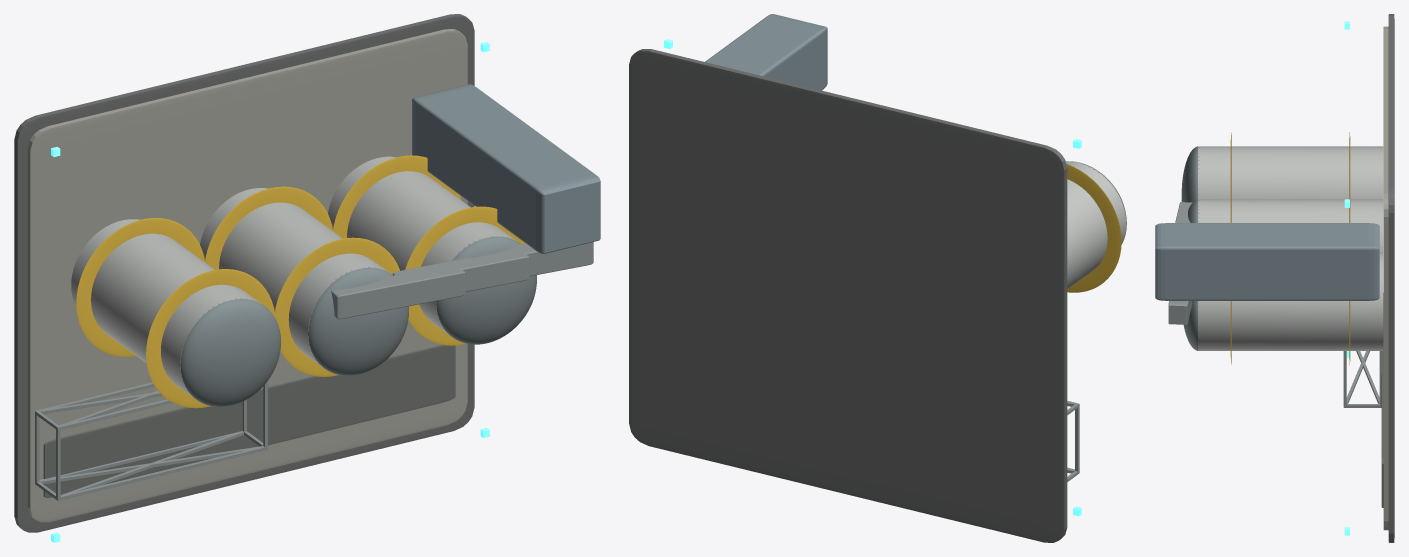
Rendered from b-10-resource-silo-lod1.glb.
The picture shows the model from 3 angles, left to right: view 1: azimuth 30°, elevation 25°; view 2: azimuth 150°, elevation 25°; view 3: azimuth 270°, elevation 25°; orthographic projection. The views are drawn at different scales.
Visible parts, largest first — view 1: foundation_inner_pad, silo_truck_lane_road, main_bucket_elevator, foundation, primary_silo_0_vessel, primary_silo_1_vessel, primary_silo_2_vessel, silo_dome_0, silo_dome_1, silo_dome_2, top_conveyor_0, primary_silo_0_ring_high (+11 smaller); view 2: foundation, main_bucket_elevator, primary_silo_0_vessel, primary_silo_0_ring_high; view 3: main_bucket_elevator, primary_silo_0_vessel, primary_silo_2_vessel, primary_silo_1_vessel, foundation, foundation_inner_pad, silo_dome_0, top_conveyor_2, silo_truck_lane_road, silo_dome_2.
Boxes of the visible parts, bbox=[...] form: foundation_inner_pad: bbox=[27, 29, 467, 522]; silo_truck_lane_road: bbox=[43, 345, 455, 497]; main_bucket_elevator: bbox=[412, 84, 600, 253]; foundation: bbox=[14, 14, 474, 532]; primary_silo_0_vessel: bbox=[71, 219, 275, 403]; primary_silo_1_vessel: bbox=[200, 188, 391, 373]; primary_silo_2_vessel: bbox=[328, 156, 520, 343]; silo_dome_0: bbox=[180, 298, 281, 406]; silo_dome_1: bbox=[308, 267, 408, 375]; silo_dome_2: bbox=[436, 236, 536, 344]; top_conveyor_0: bbox=[331, 264, 465, 319]; primary_silo_0_ring_high: bbox=[146, 269, 274, 408]; foundation: bbox=[629, 49, 1067, 542]; main_bucket_elevator: bbox=[705, 14, 827, 90]; primary_silo_0_vessel: bbox=[1065, 161, 1126, 289]; primary_silo_0_ring_high: bbox=[1066, 164, 1121, 292]; main_bucket_elevator: bbox=[1155, 223, 1379, 300]; primary_silo_0_vessel: bbox=[1198, 146, 1383, 199]; primary_silo_2_vessel: bbox=[1198, 252, 1383, 350]; primary_silo_1_vessel: bbox=[1198, 199, 1383, 252]; foundation: bbox=[1388, 14, 1394, 542]; foundation_inner_pad: bbox=[1383, 26, 1388, 530]; silo_dome_0: bbox=[1181, 146, 1199, 202]; top_conveyor_2: bbox=[1168, 301, 1192, 324]; silo_truck_lane_road: bbox=[1381, 293, 1383, 507]; silo_dome_2: bbox=[1183, 301, 1198, 350].
Size of what is drawn, in the model's own units: 15 by 13 by 8.
